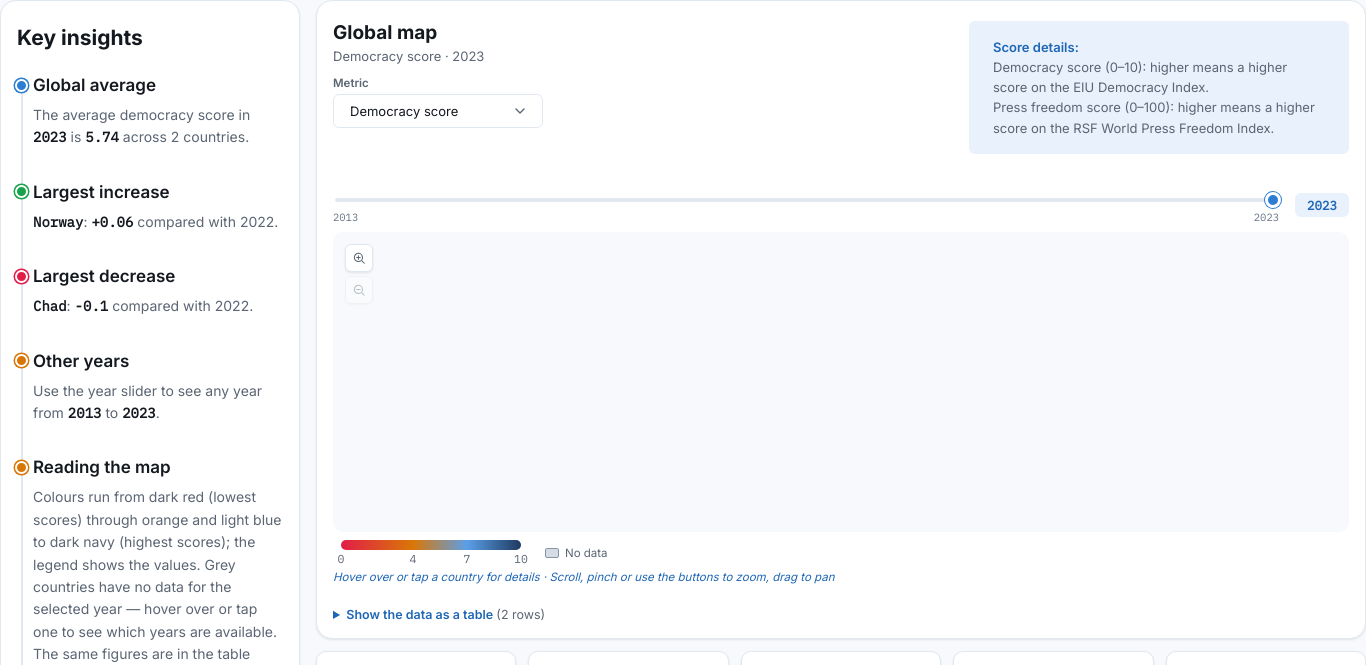
Test: Global map › changing the metric reloads the map and shows the methodology note for press freedom
Expected: the text "changed its press freedom methodology" is not shown
Step 1. Select "Press freedom score" in the dropdown labelled "Metric" → (438, 111), box [333,94,543,128]
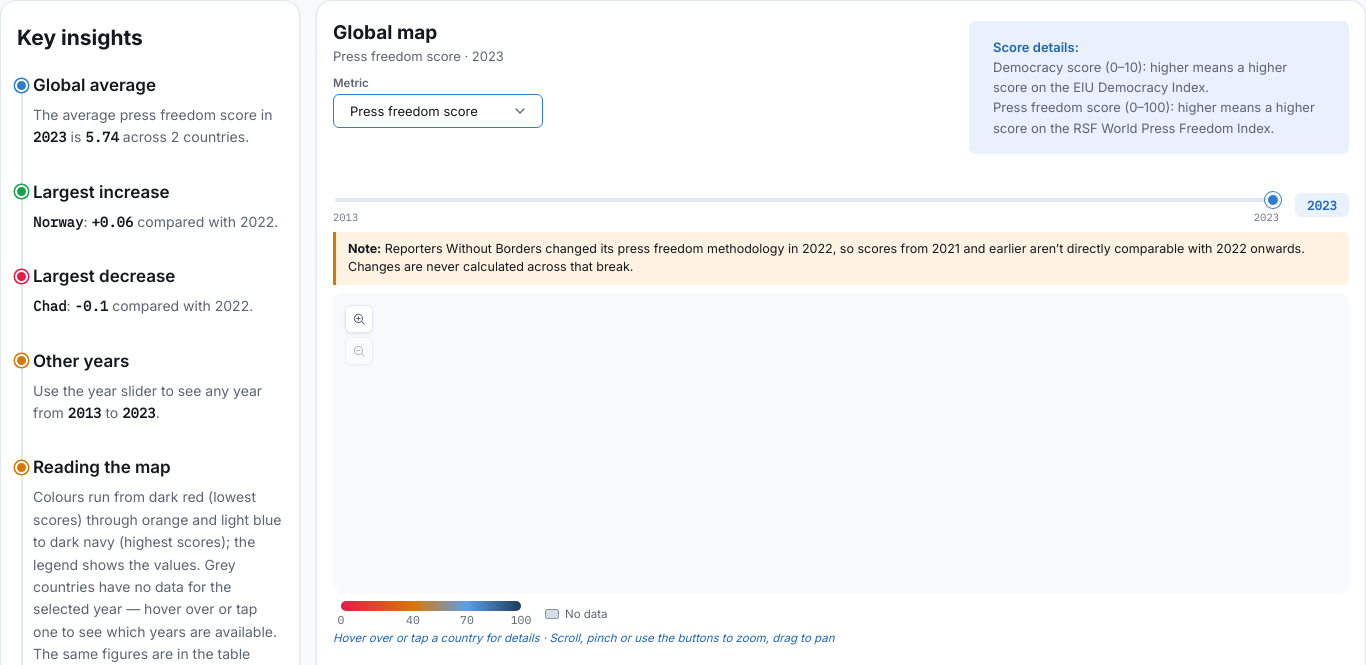
Expected: the text "changed its press freedom methodology" is shown, [348,241,1305,274]
